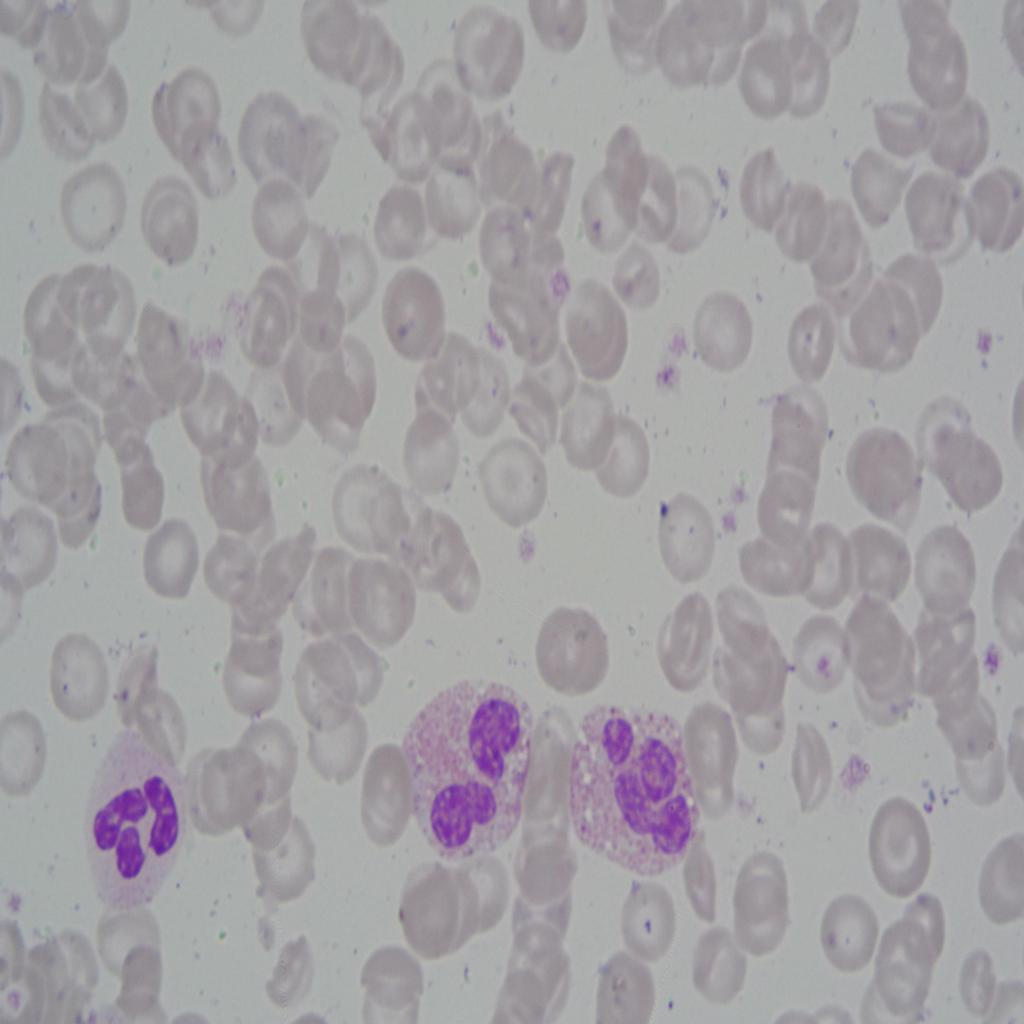Eosinofil: (568, 696, 700, 874), (410, 673, 534, 859)
Neutrofil: (80, 730, 192, 906)
Platelet: (963, 316, 1007, 379), (981, 638, 1010, 692), (650, 494, 684, 537)
